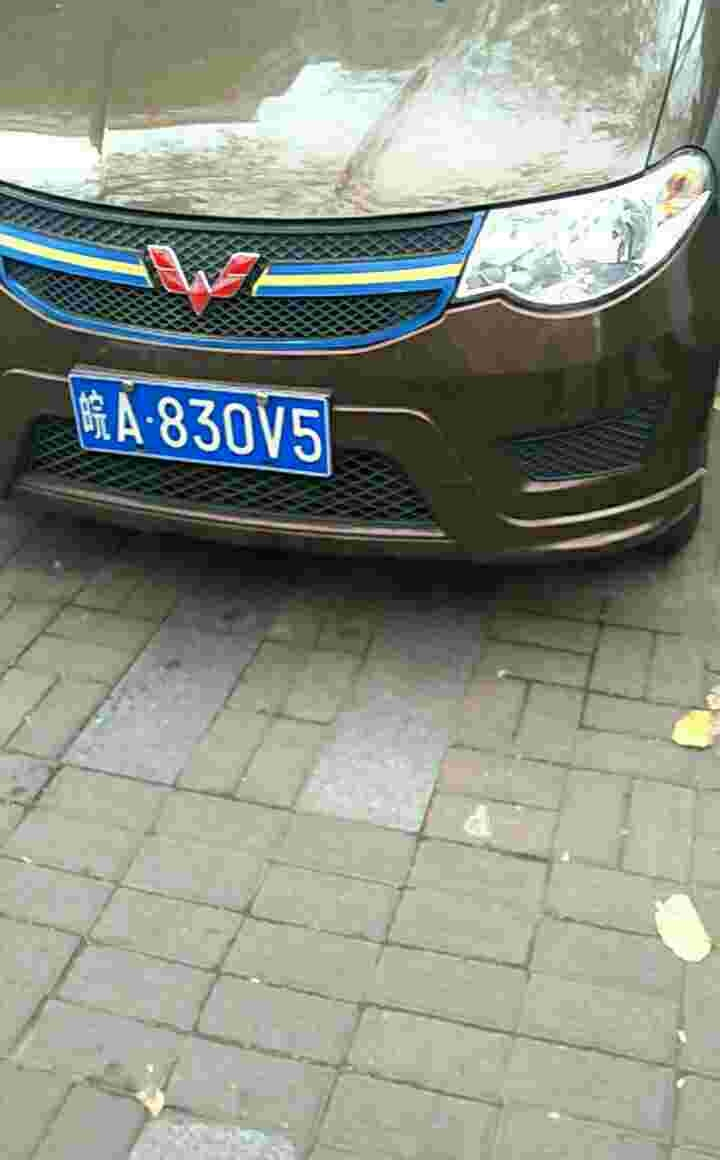license_plate: (83, 383, 351, 481)
